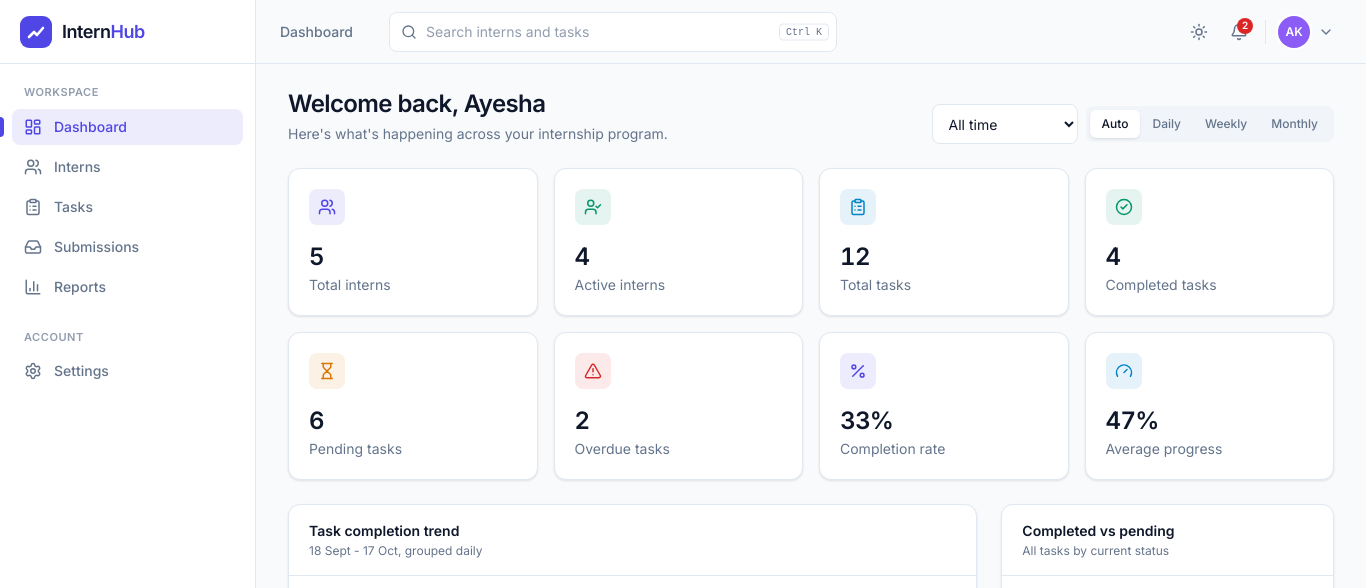
session › signs out from the user menu
The width and height of the screenshot is (1366, 588).
Click the button with aria-label "Account menu" at (1308,32), box [1274,12,1342,52]
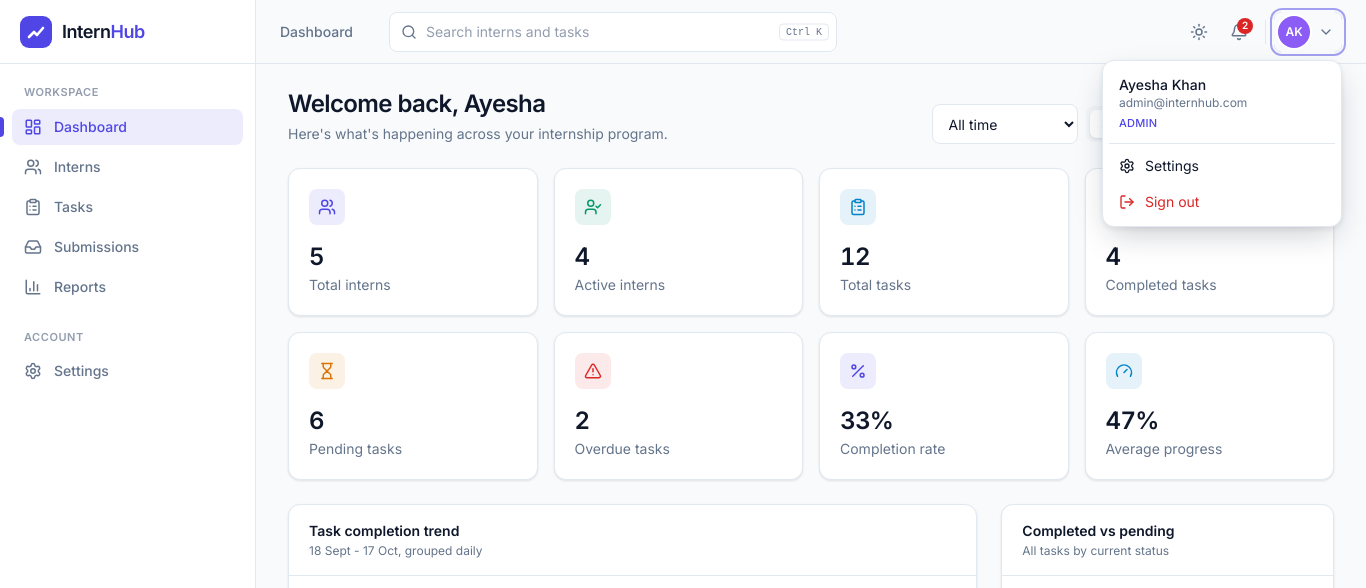
Click the menu item "Sign out" at (1222,202), box [1109,184,1335,220]
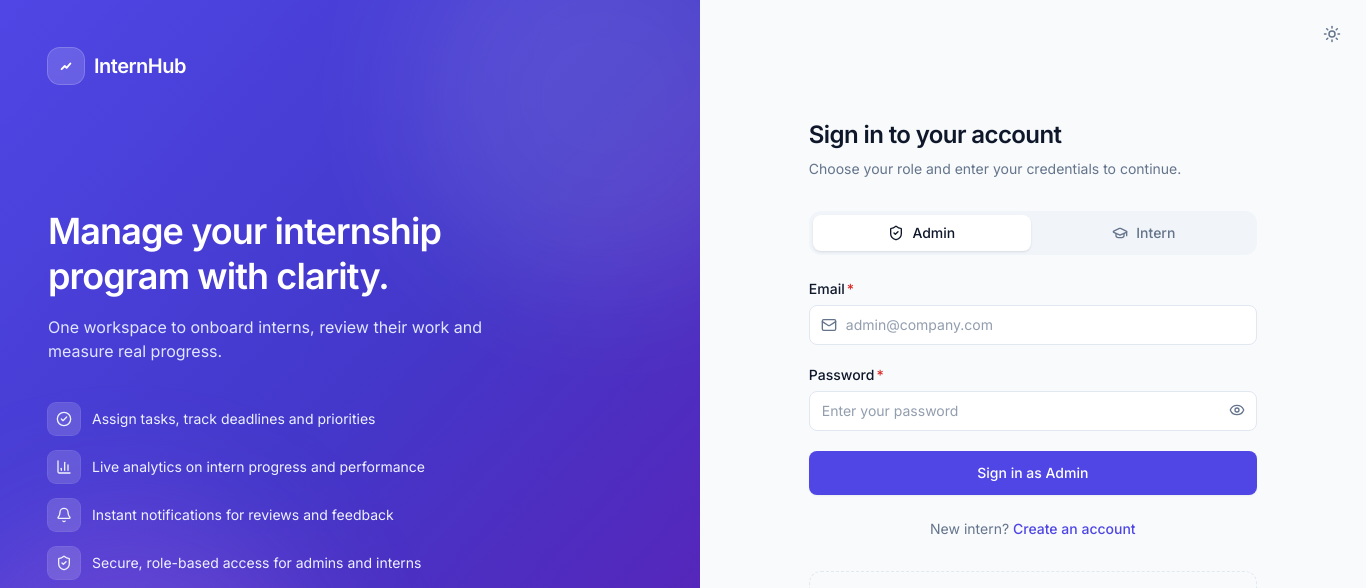
Check: the heading "Sign in to your account" is shown, box [809,120,1061,148]
